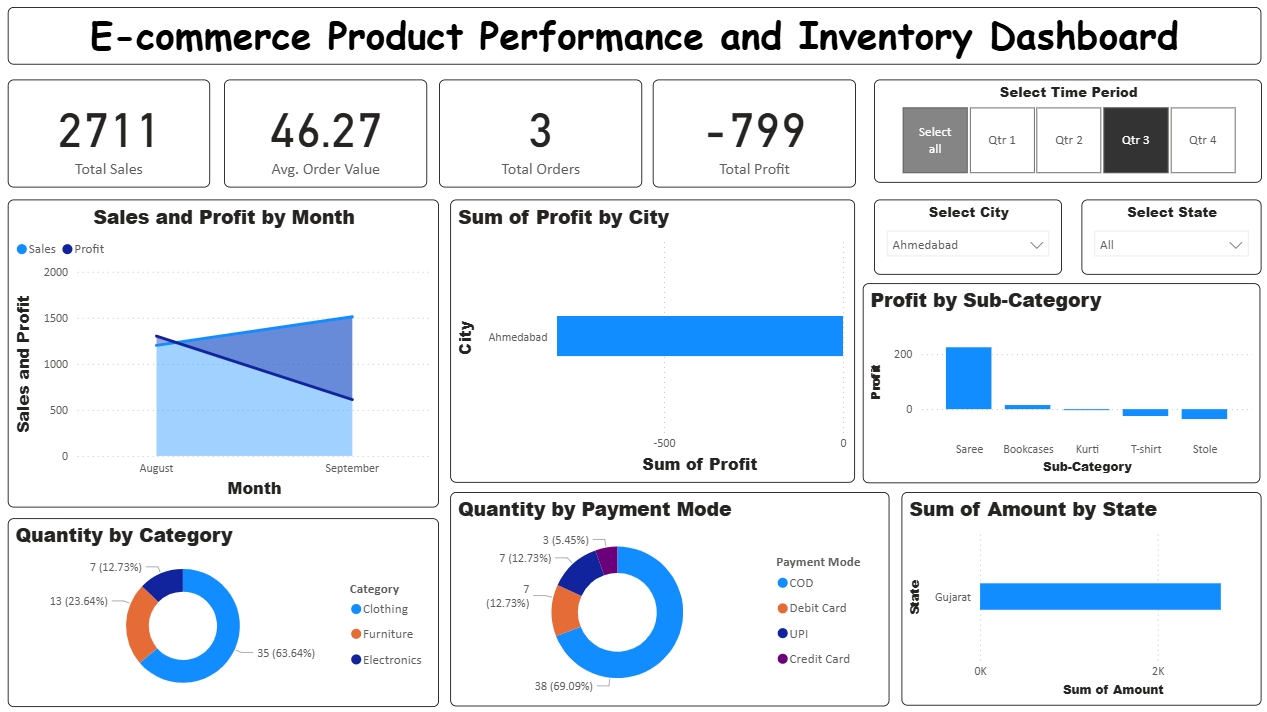

The page's visual inventory and layout, read from the dashboard file:
{"tool":"powerbi","page":{"name":"Page 1","canvas":[1280,720],"ordinal":0},"visuals":[{"type":"textbox","box":[13.8,10,1253.8,57.5],"z":0},{"type":"stackedAreaChart","fields":{"Category":["Orders.Order Date.Variation.Date Hierarchy.Month"],"Y":["Sum(Details.Amount)","Sum(Details.Profit)"]},"box":[14.3,202.4,431,308.3],"z":1000},{"type":"columnChart","fields":{"Category":["Details.Sub-Category"],"Y":["Sum(Details.Profit)"]},"box":[869.1,285.7,397.6,200],"z":2000},{"type":"donutChart","fields":{"Category":["Details.Category"],"Y":["Sum(Details.Quantity)"]},"box":[13.8,521.2,431.2,188.8],"z":3000},{"type":"donutChart","fields":{"Category":["Details.PaymentMode"],"Y":["Sum(Details.Quantity)"]},"box":[456,495.2,439.3,214.3],"z":4000},{"type":"card","fields":{"Values":["Count(Details.Order ID)"]},"box":[445.2,82.1,203.6,108.3],"z":5000},{"type":"card","fields":{"Values":["Sum(Details.Amount)"]},"box":[14.3,82.1,202.4,108.3],"z":6000},{"type":"card","fields":{"Values":["Sum(Details.Profit)"]},"box":[658.3,82.1,203.6,108.3],"z":7000},{"type":"card","fields":{"Values":["Avg(Details.AOV)"]},"box":[229.8,82.1,203.6,108.3],"z":8000},{"type":"barChart","fields":{"Category":["Orders.State"],"Y":["Sum(Details.Amount)"]},"box":[907.5,495,360,213.8],"z":9000},{"type":"barChart","fields":{"Category":["Orders.City"],"Y":["Sum(Details.Profit)"]},"box":[456,202.4,404.8,283.3],"z":10000},{"type":"slicer","title":"Select Time Period","fields":{"Values":["Orders.Order Date.Variation.Date Hierarchy.Quarter"]},"box":[879.8,82.1,388.1,103.6],"z":11000},{"type":"slicer","title":"Select State","fields":{"Values":["Orders.State"]},"box":[1086.9,202.4,179.8,75],"z":12000},{"type":"slicer","title":"Select City","fields":{"Values":["Orders.City"]},"box":[879.8,202.4,188.1,75],"z":13000}]}

Visuals, with their boxes in screenshot pixels (x1, y1, x2, y2), scaled from the page's 1280x720 canvas onto the 1267x712 screenshot:
textbox: locate(14, 10, 1255, 67)
stackedAreaChart - Orders.Order Date.Variation.Date Hierarchy.Month x Sum(Details.Amount): locate(14, 200, 441, 505)
columnChart - Details.Sub-Category x Sum(Details.Profit): locate(860, 283, 1254, 480)
donutChart - Details.Category x Sum(Details.Quantity): locate(14, 515, 440, 702)
donutChart - Details.PaymentMode x Sum(Details.Quantity): locate(451, 490, 886, 702)
card - Count(Details.Order ID): locate(441, 81, 642, 188)
card - Sum(Details.Amount): locate(14, 81, 214, 188)
card - Sum(Details.Profit): locate(652, 81, 853, 188)
card - Avg(Details.AOV): locate(227, 81, 429, 188)
barChart - Orders.State x Sum(Details.Amount): locate(898, 490, 1255, 701)
barChart - Orders.City x Sum(Details.Profit): locate(451, 200, 852, 480)
"Select Time Period" slicer: locate(871, 81, 1255, 184)
"Select State" slicer: locate(1076, 200, 1254, 274)
"Select City" slicer: locate(871, 200, 1057, 274)
